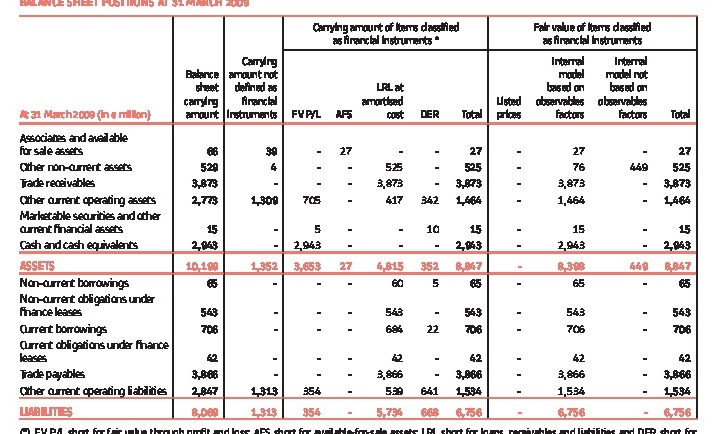table: (0, 0, 712, 434)
